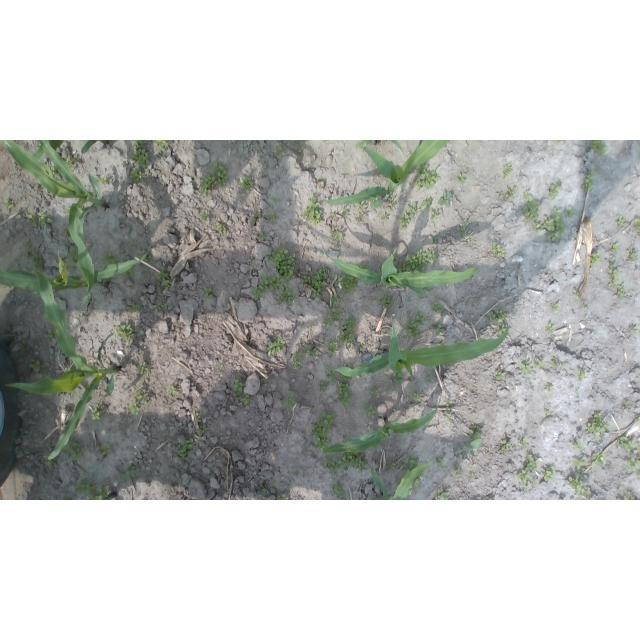Maize: (5, 261, 122, 462), (1, 141, 110, 306), (323, 314, 510, 384), (319, 241, 479, 298), (323, 141, 450, 210), (1, 244, 152, 294), (323, 394, 442, 455), (370, 456, 436, 500), (28, 141, 110, 164)
Weeds: (252, 272, 296, 301), (265, 247, 297, 282), (324, 451, 368, 475), (199, 163, 229, 198), (402, 248, 438, 274), (129, 140, 151, 182), (311, 413, 335, 451), (542, 208, 566, 244), (75, 477, 114, 499), (518, 456, 539, 493), (415, 164, 442, 191), (522, 192, 540, 230), (585, 412, 609, 440), (405, 312, 427, 340), (302, 196, 323, 225), (323, 296, 341, 327), (312, 266, 329, 298), (341, 315, 358, 346), (335, 274, 360, 295), (400, 203, 420, 229), (569, 475, 591, 498), (156, 267, 174, 292), (336, 381, 352, 409), (63, 444, 86, 461), (29, 210, 53, 226), (267, 336, 286, 356), (115, 323, 136, 341), (178, 439, 195, 461), (28, 251, 44, 274), (468, 427, 482, 452), (617, 436, 638, 452), (488, 310, 509, 325), (582, 171, 597, 192), (405, 456, 420, 476), (68, 247, 81, 269), (121, 466, 140, 481), (590, 141, 609, 156), (379, 293, 396, 309), (101, 251, 119, 266), (239, 175, 254, 193), (627, 456, 640, 476), (591, 452, 607, 468), (135, 388, 150, 405), (548, 182, 562, 200), (609, 265, 620, 287), (541, 465, 556, 481), (291, 350, 303, 370), (430, 301, 447, 315), (503, 186, 517, 203), (232, 379, 244, 398), (438, 190, 452, 206), (28, 359, 44, 373), (360, 197, 377, 210), (328, 340, 341, 357), (491, 243, 505, 258), (573, 458, 587, 473), (304, 344, 320, 357), (333, 483, 345, 500), (137, 362, 151, 376), (90, 407, 104, 421), (365, 405, 378, 420), (331, 228, 344, 243), (153, 140, 169, 152), (502, 162, 514, 178), (433, 324, 447, 337), (284, 392, 296, 407), (326, 366, 336, 383), (128, 403, 141, 416), (95, 174, 109, 186), (446, 402, 454, 422), (100, 444, 113, 456), (273, 145, 286, 157), (2, 195, 13, 209), (44, 460, 58, 471), (497, 326, 511, 337), (591, 251, 602, 265), (265, 212, 279, 223), (618, 492, 637, 500), (204, 287, 216, 299), (240, 394, 252, 406), (387, 197, 398, 210), (552, 356, 562, 370), (127, 303, 141, 313), (618, 284, 627, 299), (214, 221, 225, 233), (609, 243, 620, 255), (393, 373, 404, 385), (421, 198, 432, 210), (355, 213, 368, 223), (623, 399, 636, 409), (501, 439, 511, 452), (533, 357, 544, 368), (457, 173, 468, 184), (521, 362, 532, 373), (568, 205, 577, 218), (253, 212, 262, 225), (436, 491, 449, 500), (617, 215, 626, 228), (633, 218, 640, 234), (412, 393, 423, 403), (46, 329, 56, 340), (577, 370, 587, 381), (413, 473, 424, 483), (629, 248, 638, 260), (319, 380, 328, 392), (257, 231, 267, 241), (136, 251, 146, 261), (339, 209, 348, 220), (521, 439, 530, 450), (200, 210, 209, 221), (168, 386, 179, 395), (67, 155, 74, 169), (155, 304, 165, 313), (455, 464, 462, 476), (420, 286, 432, 293), (434, 236, 443, 245), (431, 210, 440, 219), (197, 428, 205, 438), (258, 484, 266, 494), (368, 389, 379, 396), (496, 372, 505, 380), (304, 276, 312, 285), (271, 194, 280, 202), (382, 213, 391, 220), (575, 441, 582, 450), (459, 224, 466, 233), (51, 166, 58, 175), (547, 322, 553, 332), (195, 412, 201, 422), (217, 364, 224, 372), (63, 231, 71, 238), (329, 213, 336, 220), (270, 483, 279, 488), (456, 449, 463, 455), (552, 302, 558, 308), (391, 463, 397, 469)
